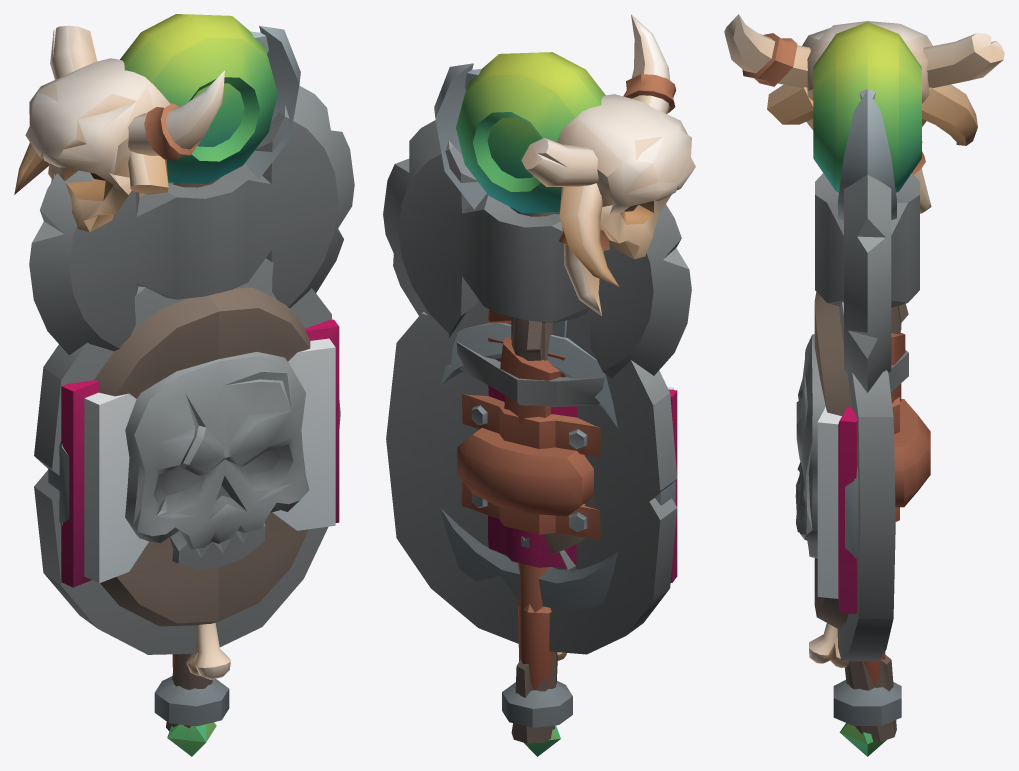
The model's file is weapons.glb.
The picture shows the model from 3 angles, left to right: view 1: azimuth 30°, elevation 25°; view 2: azimuth 150°, elevation 25°; view 3: azimuth 270°, elevation 25°; orthographic projection. The views are drawn at different scales.
Parts seen in each view (by area): view 1: Skeleton_Shield_Large_A, Skeleton_Axe, Skeleton_Staff, staff, spellbook_open, Skeleton_Shield_Small_A; view 2: Skeleton_Shield_Large_A, Skeleton_Axe, Skeleton_Staff, staff, spellbook_open, Skeleton_Shield_Small_A, Skeleton_Blade; view 3: Skeleton_Shield_Large_A, staff, Skeleton_Axe, Skeleton_Staff, spellbook_open, Skeleton_Shield_Small_A, Skeleton_Blade.
Boxes of the visible parts, left/top/right/bottom form: Skeleton_Shield_Large_A: left=34, top=258, right=340, bottom=654; Skeleton_Axe: left=29, top=85, right=354, bottom=354; Skeleton_Staff: left=14, top=25, right=230, bottom=731; staff: left=120, top=14, right=300, bottom=756; spellbook_open: left=61, top=319, right=339, bottom=587; Skeleton_Shield_Small_A: left=48, top=441, right=69, bottom=525; Skeleton_Shield_Large_A: left=386, top=298, right=677, bottom=654; Skeleton_Axe: left=383, top=120, right=691, bottom=547; Skeleton_Staff: left=511, top=14, right=695, bottom=743; staff: left=434, top=52, right=605, bottom=756; spellbook_open: left=461, top=385, right=677, bottom=582; Skeleton_Shield_Small_A: left=440, top=322, right=675, bottom=611; Skeleton_Blade: left=456, top=68, right=604, bottom=572; Skeleton_Shield_Large_A: left=795, top=292, right=930, bottom=661; staff: left=813, top=22, right=921, bottom=756; Skeleton_Axe: left=815, top=173, right=919, bottom=403; Skeleton_Staff: left=724, top=14, right=1004, bottom=741; spellbook_open: left=817, top=397, right=899, bottom=614; Skeleton_Shield_Small_A: left=845, top=466, right=858, bottom=566; Skeleton_Blade: left=859, top=89, right=908, bottom=392.
Bounding box in the file's own units: 0.9885 × 2.16 × 0.7534.
Materials: 2 (2 with a texture image).
